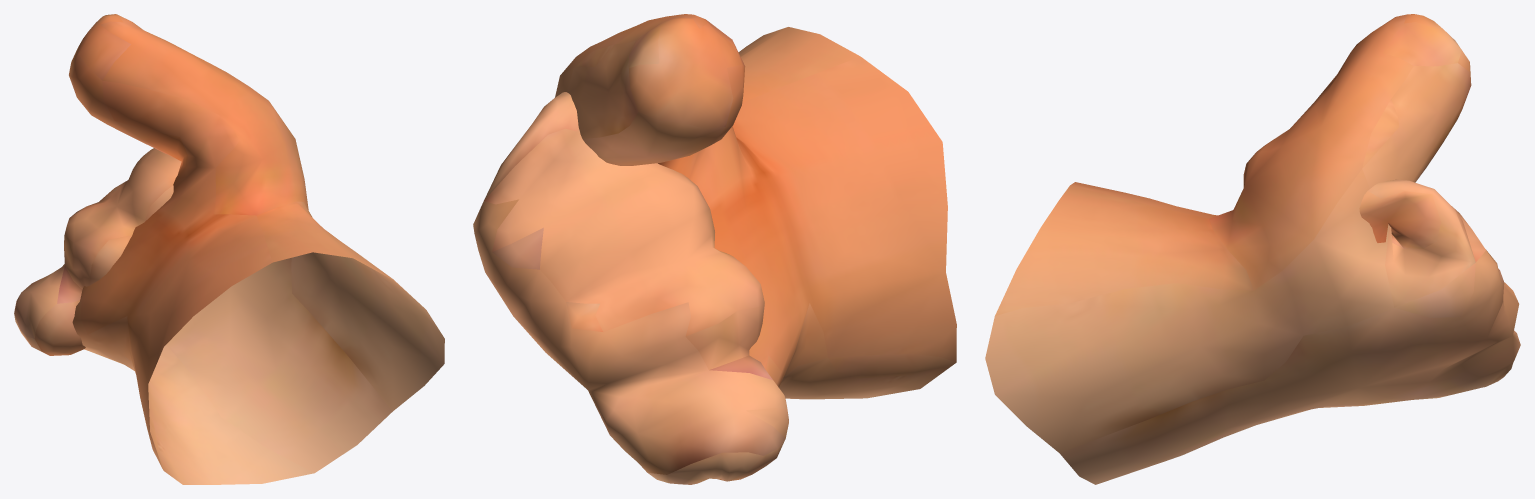
File: hunter_arm.glb
3 renders of one model, left to right at view 1: azimuth 30°, elevation 25°; view 2: azimuth 150°, elevation 25°; view 3: azimuth 270°, elevation 25°, orthographic. The views are drawn at different scales.
Parts seen in each view (by area): view 1: node_0.001; view 2: node_0.001; view 3: node_0.001.
Boxes of the visible parts, x1,y1,x2,y2 form: node_0.001: [14, 14, 444, 484]; node_0.001: [473, 14, 956, 484]; node_0.001: [985, 14, 1520, 484].
Size of the model in its own units: 0.1877 by 0.2866 by 0.315.
1 material, 1 textured.
